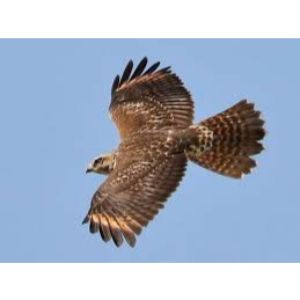hawk: (71, 56, 272, 246)
